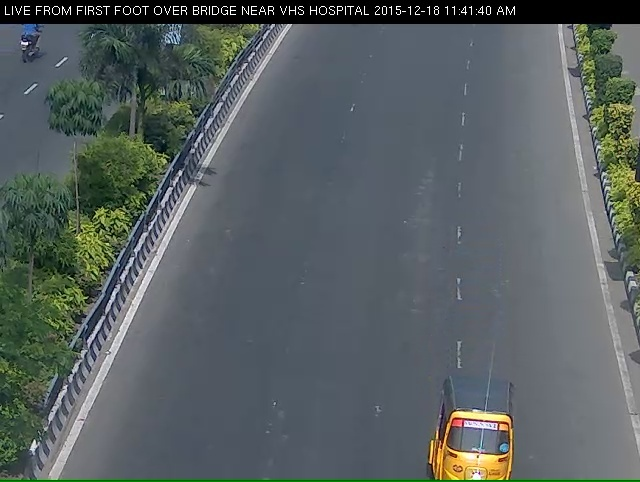Car: (424, 399, 532, 480)
